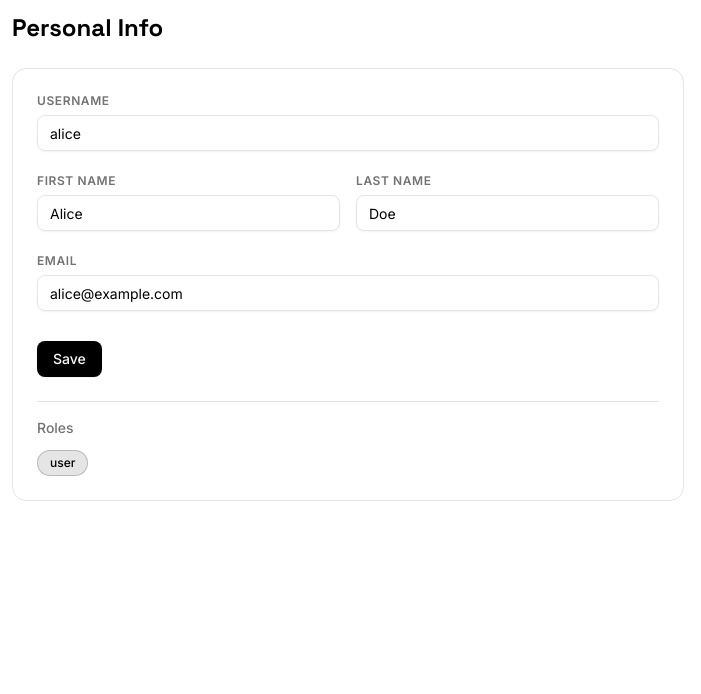
ProfilePage › shows verification guidance when the email changed and verify-email is enabled
Replace the text in the field labelled "Email" with "new@example.com" at (348, 293), box [37, 275, 659, 311]
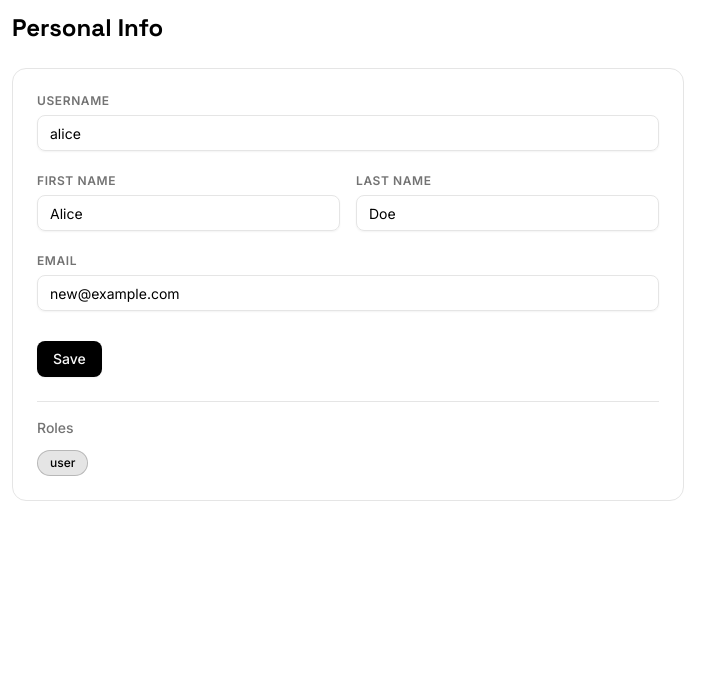
Click the button "Save" at (69, 359), box [37, 341, 102, 377]
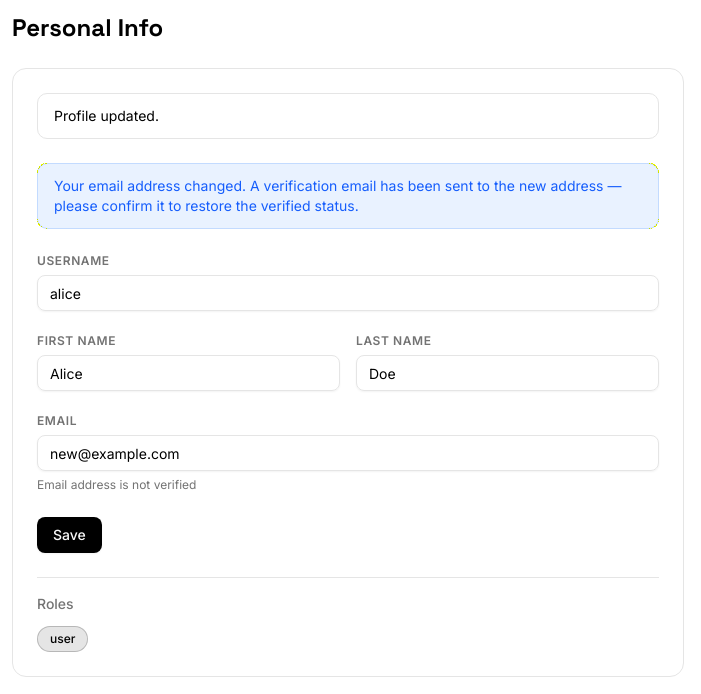
Expected: the text "A verification email has been sent" is shown, [54, 177, 621, 214]
